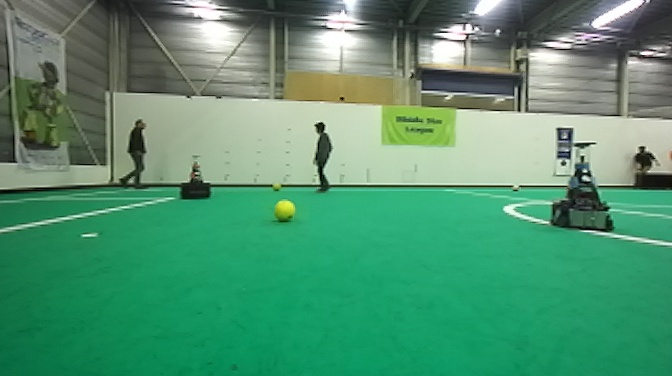ball: (274, 198, 296, 224), (270, 179, 284, 194), (510, 182, 522, 194)
human: (116, 117, 148, 191), (309, 118, 335, 195), (629, 143, 662, 191)
robot: (549, 139, 616, 232), (177, 153, 215, 201)
